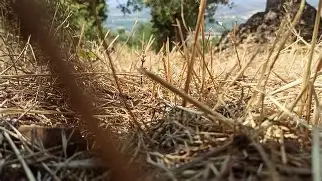crops: (0, 20, 313, 176), (163, 3, 216, 98), (59, 0, 109, 45), (217, 19, 244, 74), (112, 19, 155, 50)
